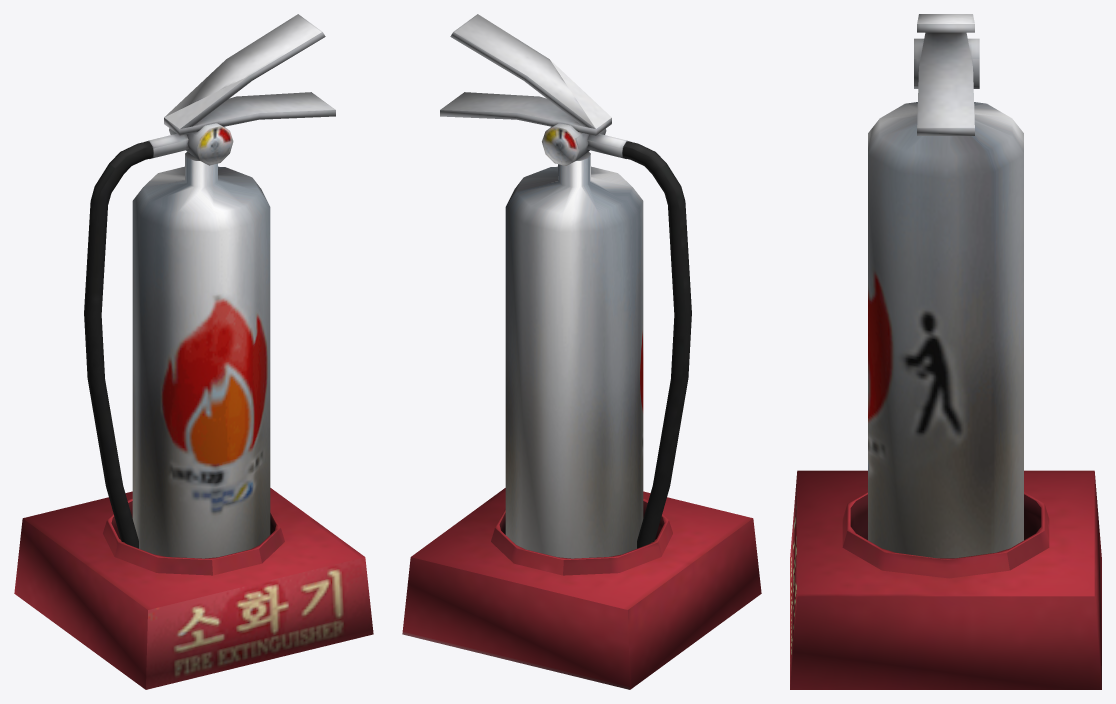
Rendered from haronextinguisher02.gltf.
The picture shows the model from 3 angles, left to right: view 1: azimuth 30°, elevation 25°; view 2: azimuth 150°, elevation 25°; view 3: azimuth 270°, elevation 25°; orthographic projection. The views are drawn at different scales.
Parts seen in each view (by area): view 1: haronextinguisher001; view 2: haronextinguisher001; view 3: haronextinguisher001.
Boxes of the visible parts, x1,y1,x2,y2 form: haronextinguisher001: [14, 14, 373, 689]; haronextinguisher001: [402, 14, 761, 689]; haronextinguisher001: [790, 14, 1101, 689].
Size of the model in its own units: 2.01 by 4.45 by 1.88.
1 material, 1 textured.
